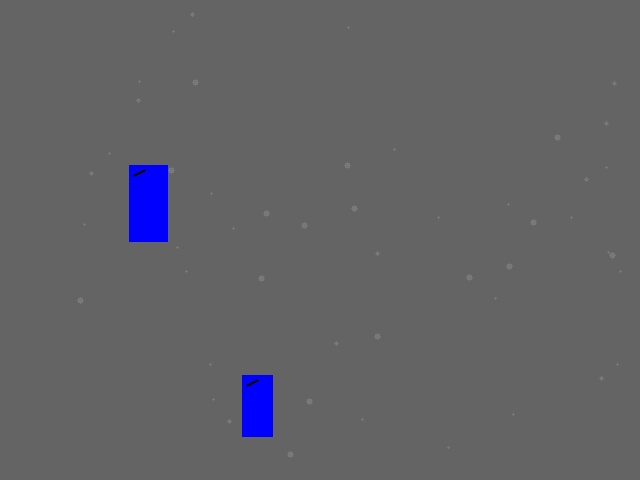motorcycle: (129, 165, 167, 241), (242, 375, 272, 436)
